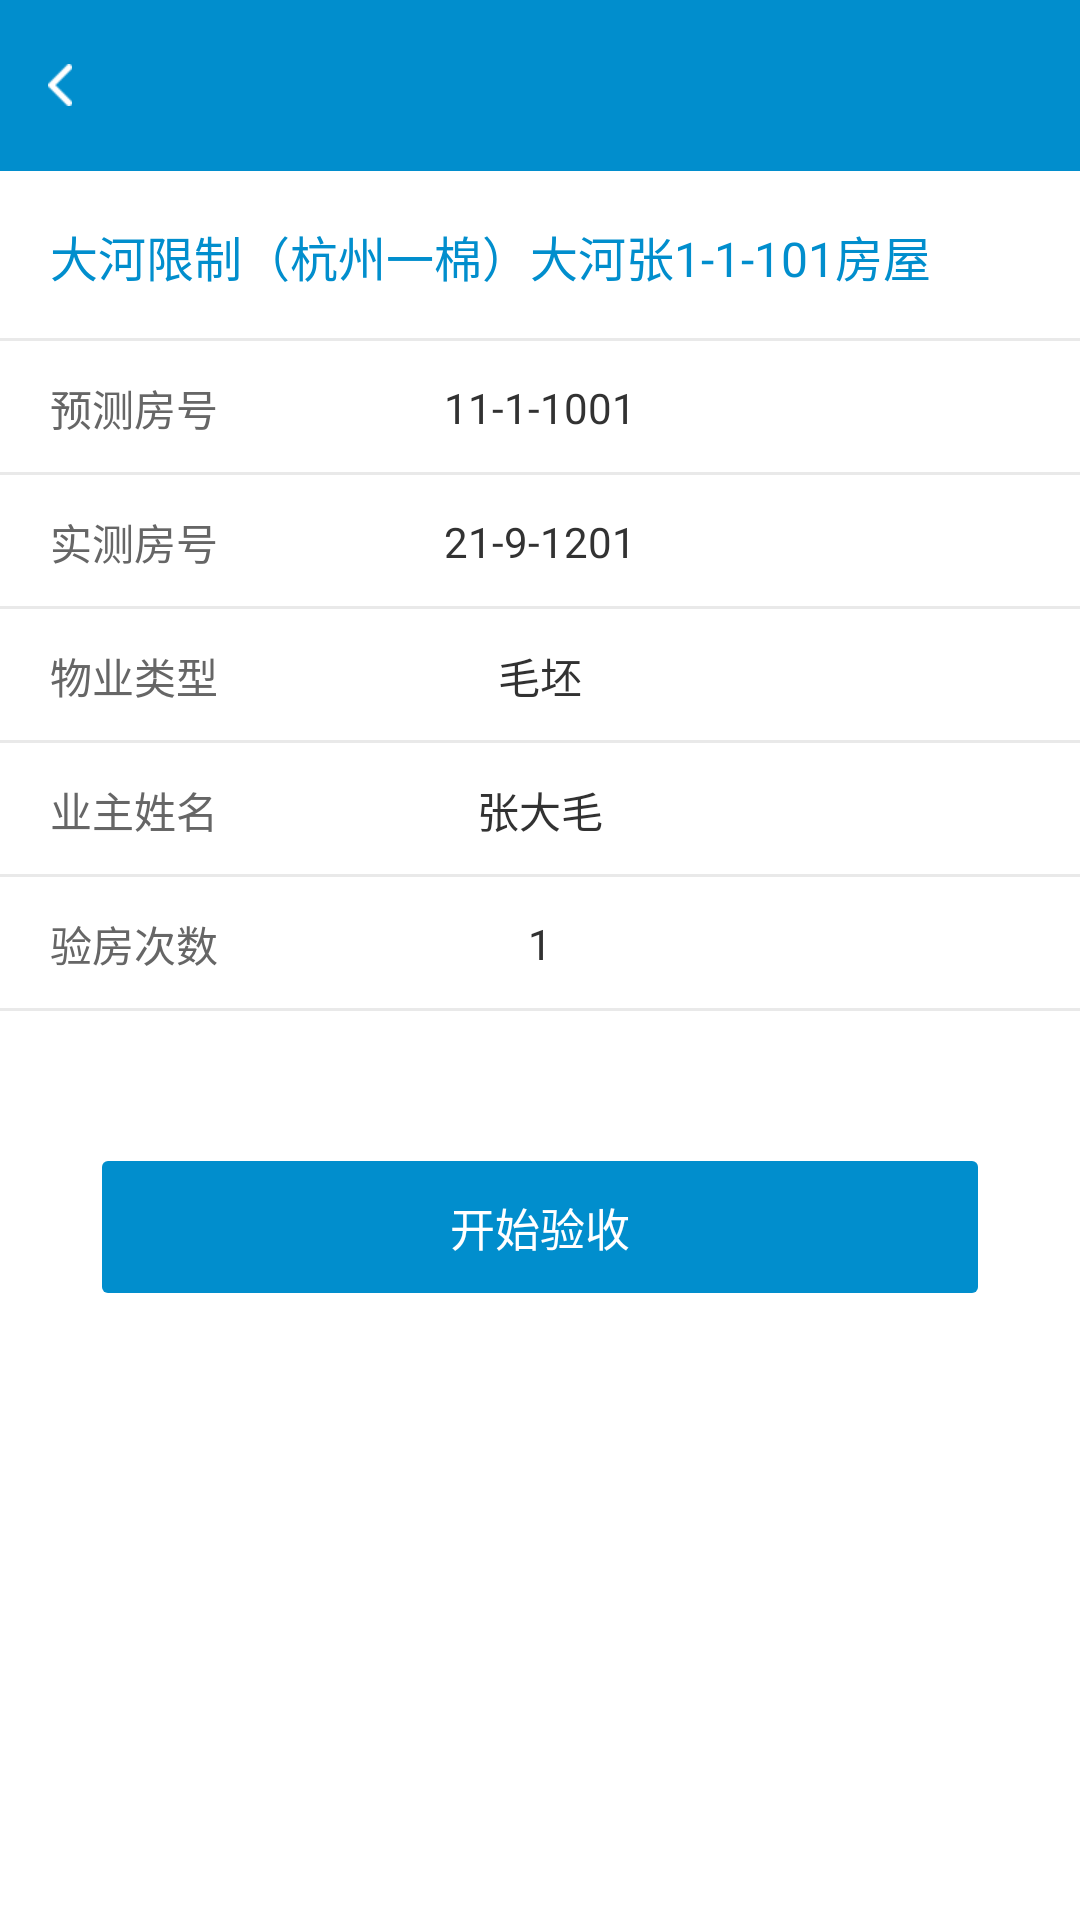

Icons on this 1080×1920 Android screen, each with the point to tap as (x=x, y=y):
back: (x=60, y=85)
